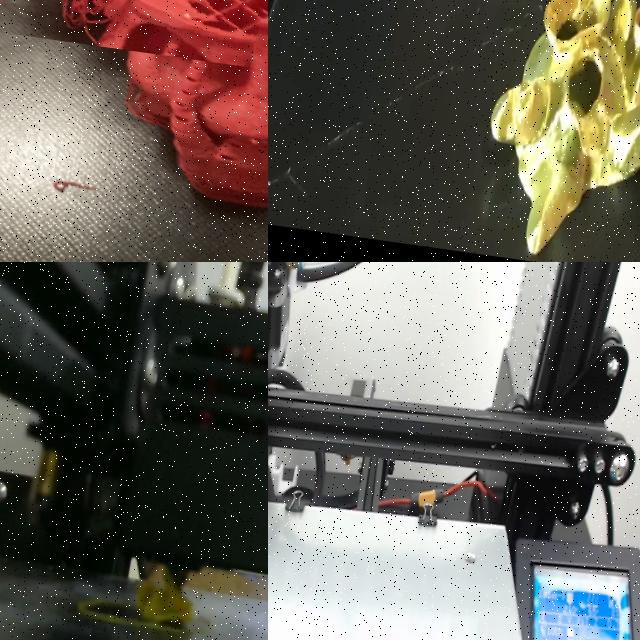spaghetti: (0, 0, 268, 72), (132, 580, 205, 633)
